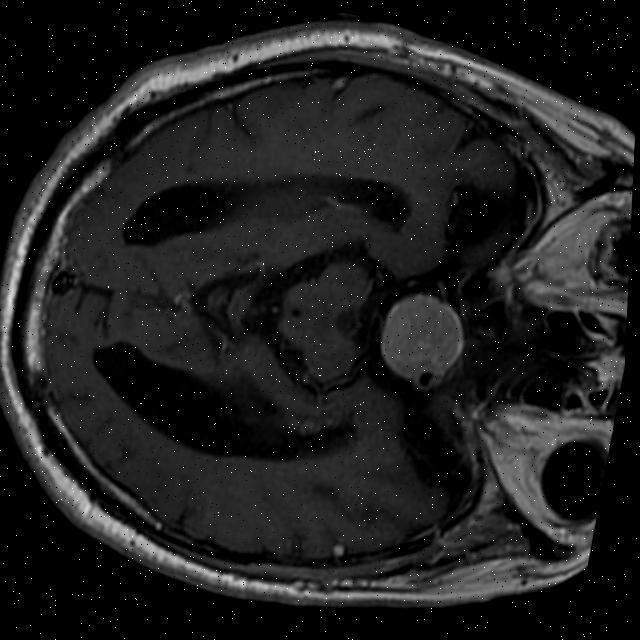Pituitary: (374, 287, 471, 388)
